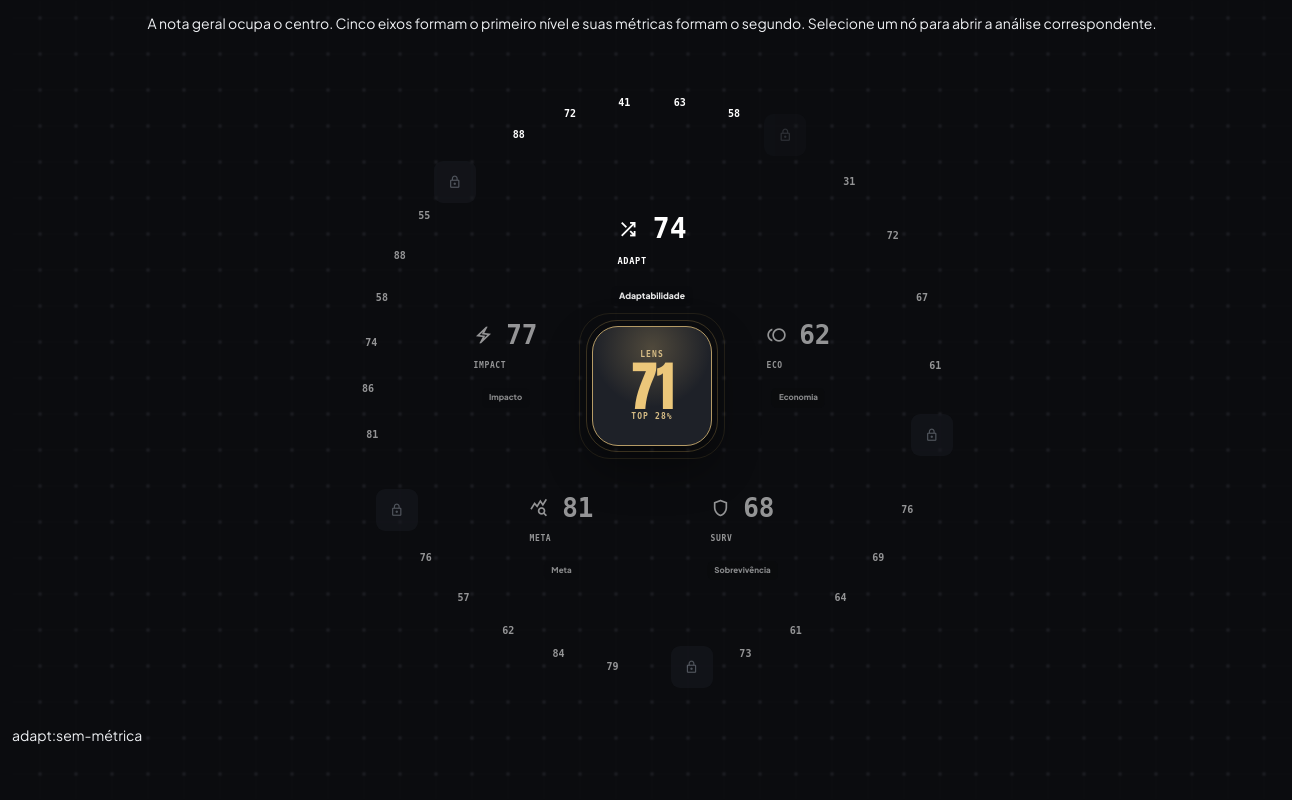
Test: LensTree › expõe o núcleo, os cinco ramos e as submétricas como uma árvore interativa
Expected: the picture named "Nota geral 71 de 100" is shown, [592, 326, 712, 446]
Expected: the button named "Ouro parado, nota 31 de 100" is shown, [828, 161, 870, 203]
Step 1. Click the button with aria-label "Economia, nota 62 de 100" → (798, 338), box [756, 296, 840, 380]
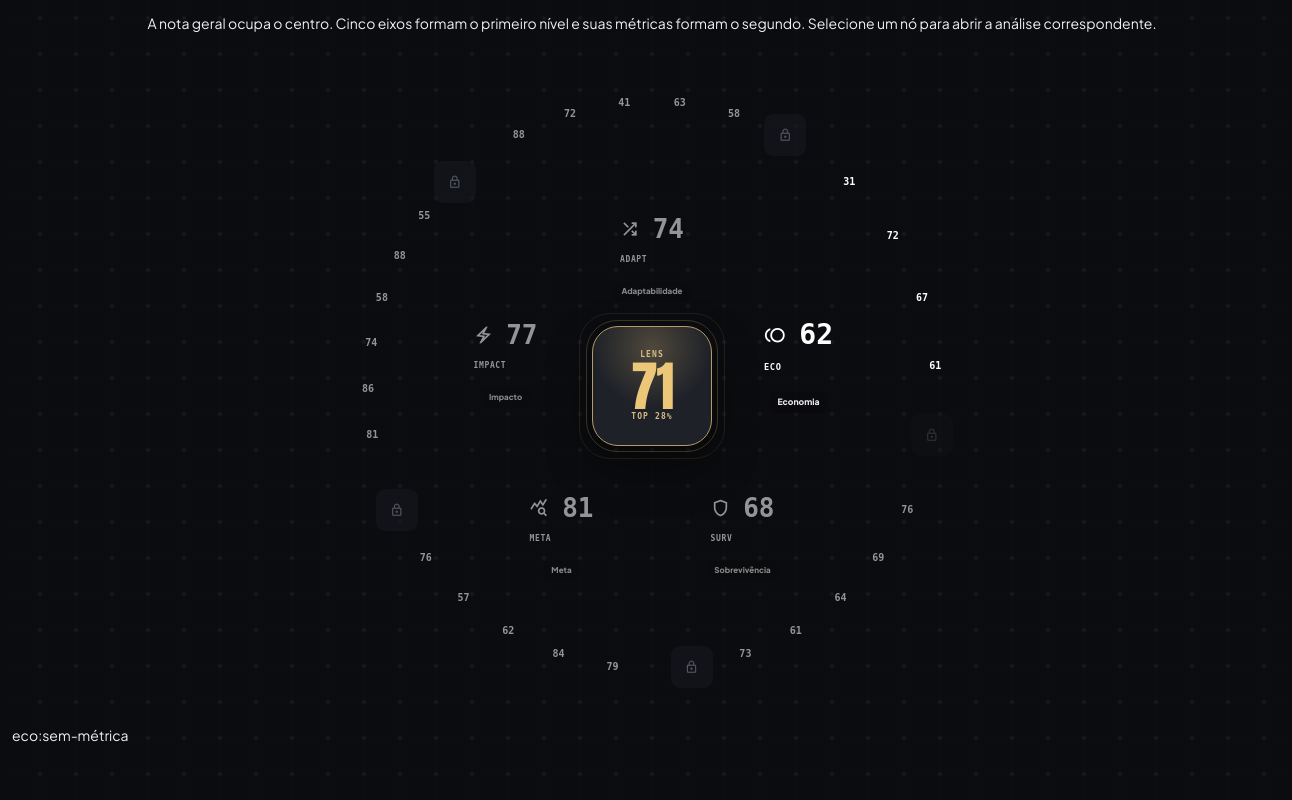
Expected: the message reads "eco:sem-métrica", [12, 726, 129, 744]
Step 2. Click the button named "Ouro parado, nota 31 de 100" → (849, 182), box [828, 161, 870, 203]
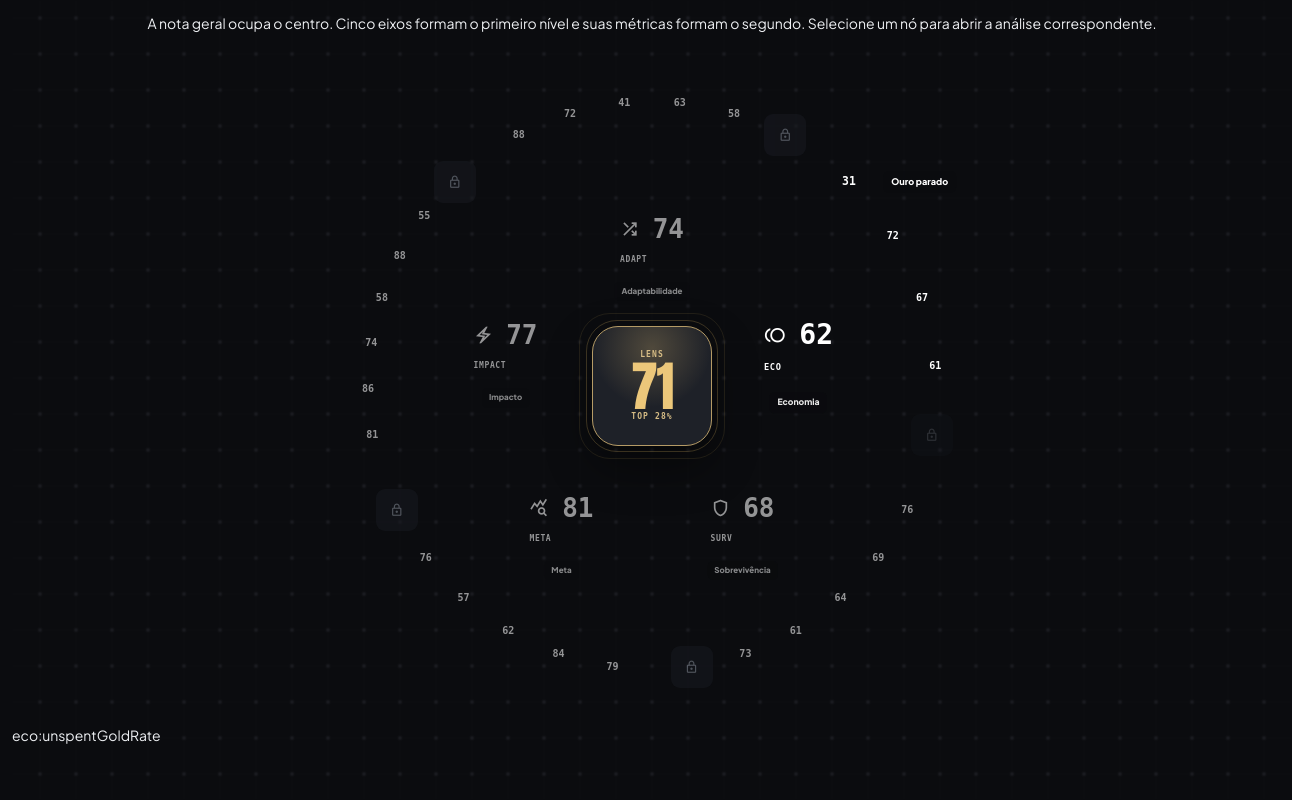
Expected: the message reads "eco:unspentGoldRate", [12, 726, 161, 744]
